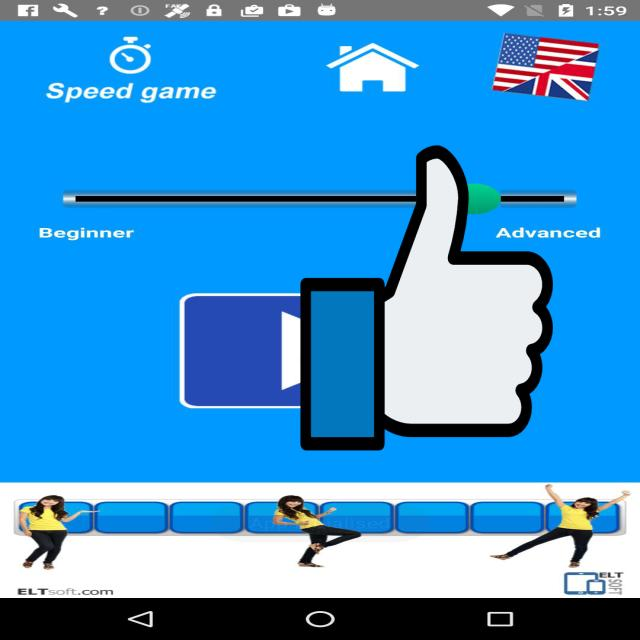privacy zuckering: (300, 139, 553, 457)
